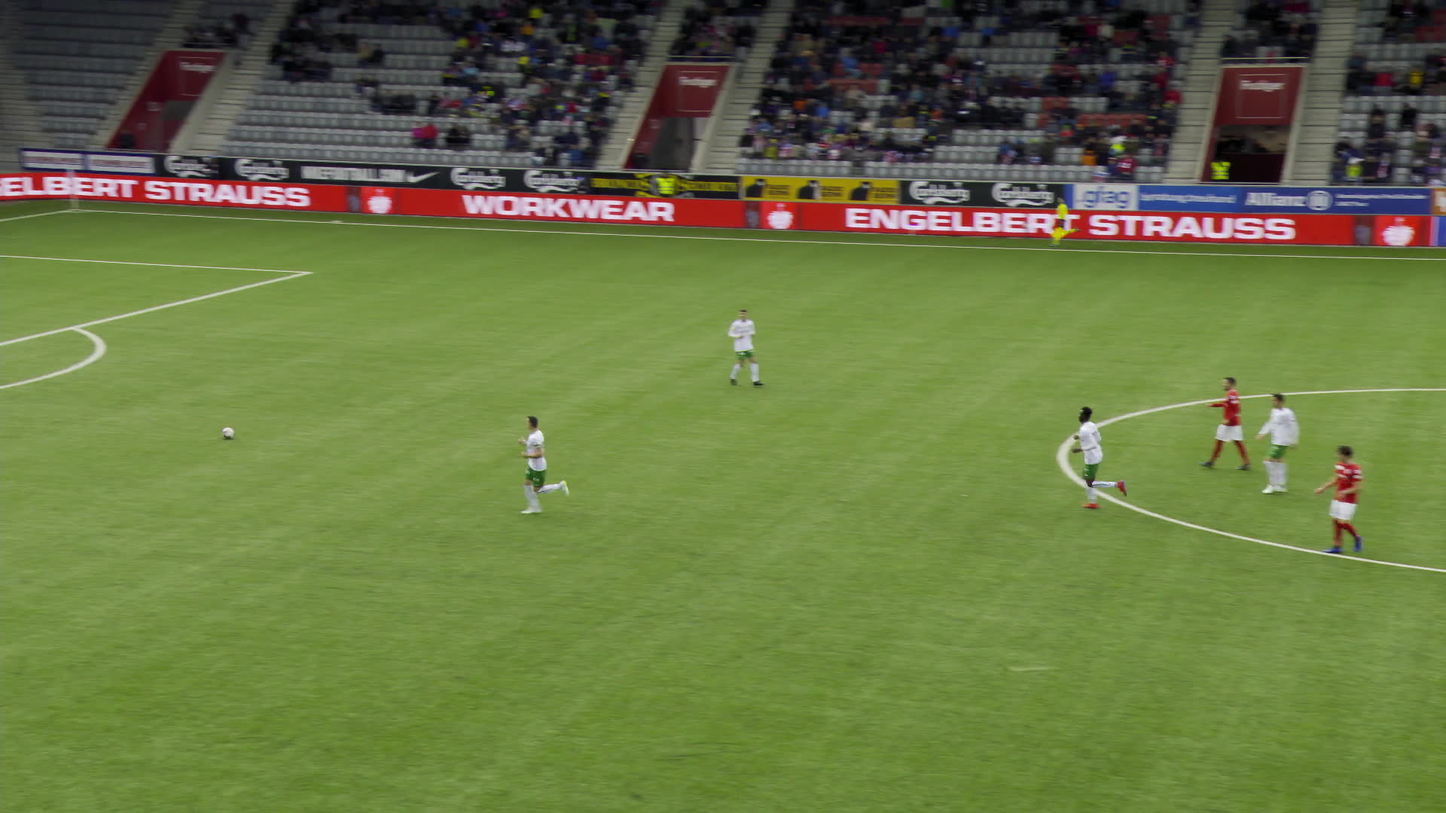ball: (221, 425, 239, 442)
player: (1063, 400, 1124, 509), (505, 412, 567, 514), (1311, 443, 1365, 554), (1194, 373, 1253, 473), (1240, 390, 1290, 493), (725, 304, 766, 390)
referee: (1045, 196, 1081, 248)
